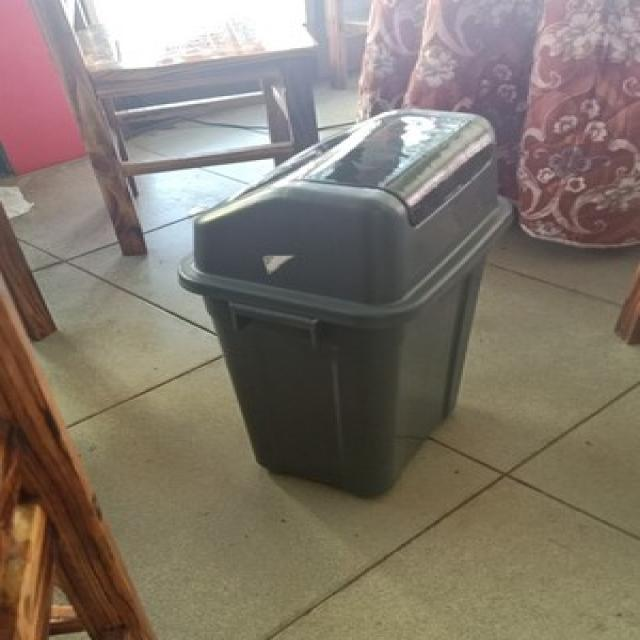ash bin: (175, 105, 518, 498)
